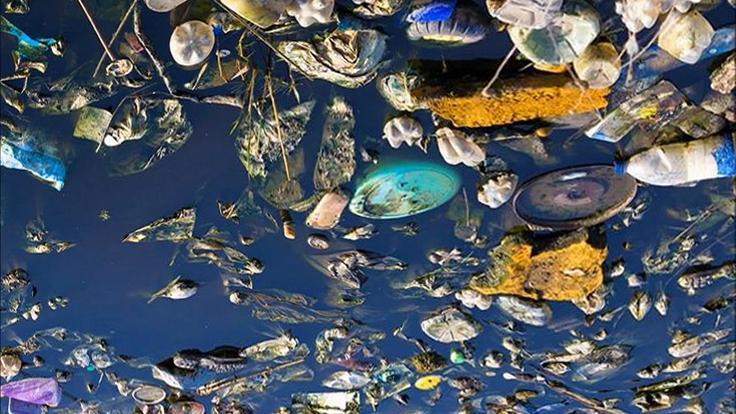Plastic Pollution: (181, 0, 736, 414)
